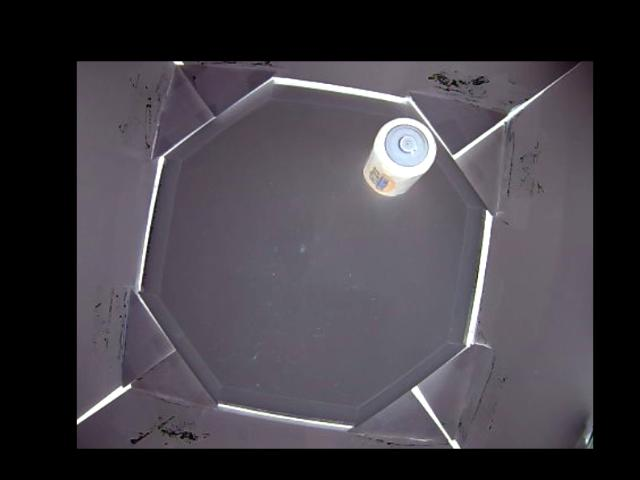Battery: (363, 116, 438, 196)
